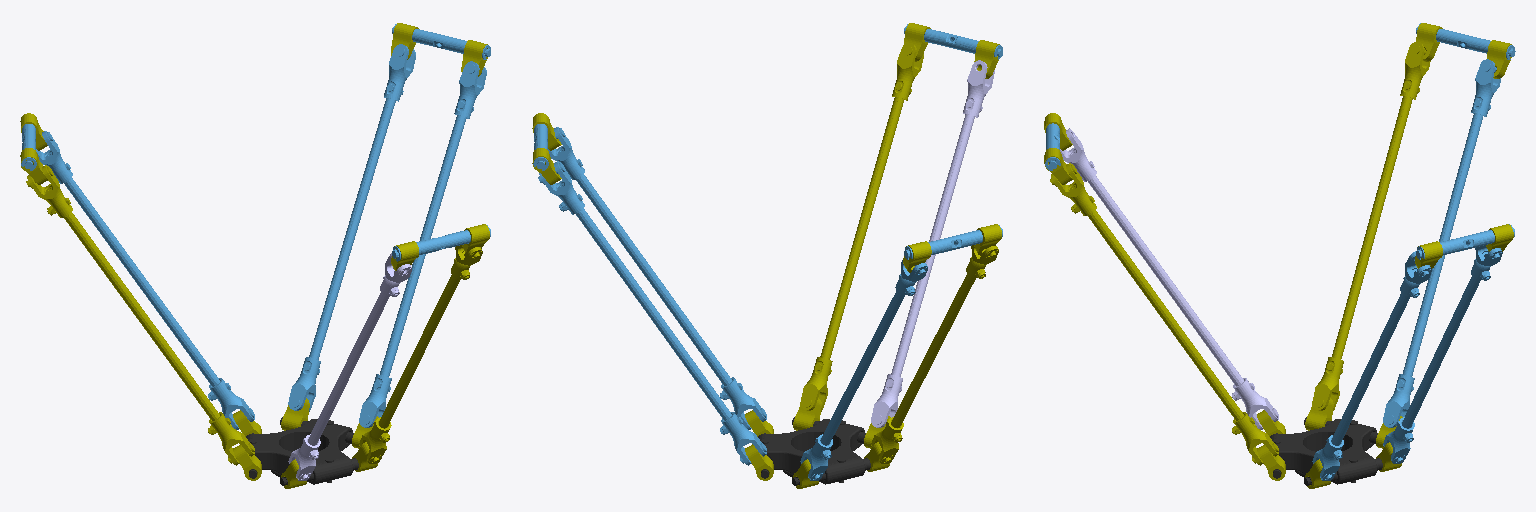
--- Render facts (derived) ---
Views: 3 orthographic renders of the robot side by side, from view 1: azimuth 30°, elevation 25°; view 2: azimuth 150°, elevation 25°; view 3: azimuth 270°, elevation 25°.
Model DeltaManipulator_low with 22 links and 21 joints (21 continuous), rooted at low_base_link, posed every joint at zero.
Visible links, largest first — view 1: con222, con221, con322, con321, low_base_link, con121, con122, con201, con101; view 2: con122, con222, con121, con221, low_base_link, con322, con321, con101, con301, con111, con112; view 3: con322, con122, con321, con121, low_base_link, con221, con222, con301, con201, con312, con311.
Link boxes in pixels (x1,y1,x2,y2): con222: (288,44,415,411); con221: (359,61,486,427); con322: (26,165,254,465); con321: (36,131,254,429); low_base_link: (246,417,358,485); con121: (288,253,411,480); con122: (359,245,482,463); con201: (392,24,490,59); con101: (392,225,490,261); con122: (800,43,923,411); con222: (538,161,766,465); con121: (871,60,994,427); con221: (548,127,766,429); low_base_link: (758,417,870,485); con322: (871,245,998,463); con321: (800,260,927,480); con101: (904,24,1002,59); con301: (904,225,1002,259); con111: (974,40,999,78); con112: (904,23,930,61); con322: (1312,42,1430,410); con122: (1050,163,1278,465); con321: (1383,59,1500,427); con121: (1060,128,1278,429); low_base_link: (1270,417,1382,485); con221: (1312,251,1431,480); con222: (1383,245,1502,463); con301: (1416,23,1515,59); con201: (1416,224,1514,259); con312: (1416,23,1442,61); con311: (1487,40,1511,78).
Bounding box of the posed robot: 0.3189 × 0.2769 × 0.2157 m (x, y, z).
22 mesh visuals loaded from 22 distinct referenced files (22 binary STL).

The robot description file, URDF, robot "DeltaManipulator_low":
<?xml version="1.0" encoding="utf-8"?>
<!-- This URDF was automatically created by SolidWorks to URDF Exporter! Originally created by Stephen Brawner ([email redacted]) 
     Commit Version: 1.6.0-4-g7f85cfe  Build Version: 1.6.7995.38578
     For more information, please see http://wiki.ros.org/sw_urdf_exporter -->
<robot
  name="DeltaManipulator_low">
  <link
    name="low_base_link">
    <inertial>
      <origin
        xyz="1.67429282660336E-08 -1.09064659664648E-08 0.0092823606262164"
        rpy="0 0 0" />
      <mass
        value="0.0277052530707091" />
      <inertia
        ixx="7.21837490929564E-06"
        ixy="8.45347838747331E-15"
        ixz="4.72158449893884E-13"
        iyy="7.21836771731911E-06"
        iyz="2.82195144743653E-12"
        izz="1.36261235680752E-05" />
    </inertial>
    <visual>
      <origin
        xyz="0 0 0"
        rpy="0 0 0" />
      <geometry>
        <mesh
          filename="package://DeltaManipulator_low/meshes/low_base_link.STL" />
      </geometry>
      <material
        name="">
        <color
          rgba="0.23921568627451 0.23921568627451 0.23921568627451 1" />
      </material>
    </visual>
    <collision>
      <origin
        xyz="0 0 0"
        rpy="0 0 0" />
      <geometry>
        <mesh
          filename="package://DeltaManipulator_low/meshes/low_base_link.STL" />
      </geometry>
    </collision>
  </link>
  <link
    name="con132">
    <inertial>
      <origin
        xyz="-0.00839999999998792 -0.00267079063628317 0.0040673112164073"
        rpy="0 0 0" />
      <mass
        value="0.00144663342057004" />
      <inertia
        ixx="5.69218111316834E-08"
        ixy="2.56602943940187E-21"
        ixz="-4.05504569551322E-21"
        iyy="5.2461767905543E-08"
        iyz="1.79111511505629E-08"
        izz="3.69464327587086E-08" />
    </inertial>
    <visual>
      <origin
        xyz="0 0 0"
        rpy="0 0 0" />
      <geometry>
        <mesh
          filename="package://DeltaManipulator_low/meshes/con132.STL" />
      </geometry>
      <material
        name="">
        <color
          rgba="0.701960784313725 0.701960784313725 0.0235294117647059 1" />
      </material>
    </visual>
    <collision>
      <origin
        xyz="0 0 0"
        rpy="0 0 0" />
      <geometry>
        <mesh
          filename="package://DeltaManipulator_low/meshes/con132.STL" />
      </geometry>
    </collision>
  </link>
  <joint
    name="low_base_link_joint_con132"
    type="continuous">
    <origin
      xyz="0.0324 -0.03 0.01"
      rpy="0 0 0" />
    <parent
      link="low_base_link" />
    <child
      link="con132" />
    <axis
      xyz="1 0 0" />
    <limit
      lower="0"
      upper="0"
      effort="0"
      velocity="0" />
  </joint>
  <link
    name="con122">
    <inertial>
      <origin
        xyz="-0.00856714284299187 -0.107997535307437 3.28426036366736E-10"
        rpy="0 0 0" />
      <mass
        value="0.00805476428554248" />
      <inertia
        ixx="1.33289086438739E-05"
        ixy="-9.9101297420375E-13"
        ixz="-1.3362218385193E-13"
        iyy="1.17270402667193E-07"
        iyz="1.13821510047298E-13"
        izz="1.33651118388553E-05" />
    </inertial>
    <visual>
      <origin
        xyz="0 0 0"
        rpy="0 0 0" />
      <geometry>
        <mesh
          filename="package://DeltaManipulator_low/meshes/con122.STL" />
      </geometry>
      <material
        name="">
        <color
          rgba="0.701960784313725 0.701960784313725 0.0235294117647059 1" />
      </material>
    </visual>
    <collision>
      <origin
        xyz="0 0 0"
        rpy="0 0 0" />
      <geometry>
        <mesh
          filename="package://DeltaManipulator_low/meshes/con122.STL" />
      </geometry>
    </collision>
  </link>
  <joint
    name="con112_joint_con122"
    type="continuous">
    <origin
      xyz="-0.00839999999997237 -0.0138589553784069 0.00525541205117042"
      rpy="-1.57079632679487 0.581034299531426 -1.57079632679488" />
    <parent
      link="con132" />
    <child
      link="con122" />
    <axis
      xyz="-1 0 0" />
  </joint>
  <link
    name="con112">
    <inertial>
      <origin
        xyz="-0.00870000000000615 -0.00713418628044951 7.68829444552921E-15"
        rpy="0 0 0" />
      <mass
        value="0.00144663342057005" />
      <inertia
        ixx="6.42230844685496E-08"
        ixy="-3.26223489978663E-20"
        ixz="3.04520537936908E-23"
        iyy="2.51851161957021E-08"
        iyz="-4.03079217187782E-21"
        izz="5.69218111316835E-08" />
    </inertial>
    <visual>
      <origin
        xyz="0 0 0"
        rpy="0 0 0" />
      <geometry>
        <mesh
          filename="package://DeltaManipulator_low/meshes/con112.STL" />
      </geometry>
      <material
        name="">
        <color
          rgba="0.701960784313725 0.701960784313725 0.0235294117647059 1" />
      </material>
    </visual>
    <collision>
      <origin
        xyz="0 0 0"
        rpy="0 0 0" />
      <geometry>
        <mesh
          filename="package://DeltaManipulator_low/meshes/con112.STL" />
      </geometry>
    </collision>
  </link>
  <joint
    name="con122_joint_con112"
    type="continuous">
    <origin
      xyz="0 -0.216000000000204 0"
      rpy="0 0 0" />
    <parent
      link="con122" />
    <child
      link="con112" />
    <axis
      xyz="-1 0 0" />
  </joint>
  <link
    name="con131">
    <inertial>
      <origin
        xyz="0.00840000000001212 -0.00267079063619827 0.00406731121635506"
        rpy="0 0 0" />
      <mass
        value="0.00144663342057005" />
      <inertia
        ixx="5.69218111316835E-08"
        ixy="2.55913534575968E-21"
        ixz="-4.05165768972689E-21"
        iyy="5.24617679055308E-08"
        iyz="1.79111511505682E-08"
        izz="3.69464327587209E-08" />
    </inertial>
    <visual>
      <origin
        xyz="0 0 0"
        rpy="0 0 0" />
      <geometry>
        <mesh
          filename="package://DeltaManipulator_low/meshes/con131.STL" />
      </geometry>
      <material
        name="">
        <color
          rgba="0.701960784313725 0.701960784313725 0.0235294117647059 1" />
      </material>
    </visual>
    <collision>
      <origin
        xyz="0 0 0"
        rpy="0 0 0" />
      <geometry>
        <mesh
          filename="package://DeltaManipulator_low/meshes/con131.STL" />
      </geometry>
    </collision>
  </link>
  <joint
    name="low_base_link_joint_con131"
    type="continuous">
    <origin
      xyz="-0.0324 -0.03 0.01"
      rpy="0 0 0" />
    <parent
      link="low_base_link" />
    <child
      link="con131" />
    <axis
      xyz="1 0 0" />
    <limit
      lower="0"
      upper="0"
      effort="0"
      velocity="0" />
  </joint>
  <link
    name="con121">
    <inertial>
      <origin
        xyz="-0.0085631212348628 -0.105002630079755 3.37533001548707E-10"
        rpy="0 0 0" />
      <mass
        value="0.00783743250836782" />
      <inertia
        ixx="1.33284062104622E-05"
        ixy="-9.91012977906211E-13"
        ixz="-1.33622183853349E-13"
        iyy="1.11814968834884E-07"
        iyz="1.13821411065065E-13"
        izz="1.33596564050229E-05" />
    </inertial>
    <visual>
      <origin
        xyz="0 0 0"
        rpy="0 0 0" />
      <geometry>
        <mesh
          filename="package://DeltaManipulator_low/meshes/con121.STL" />
      </geometry>
      <material
        name="">
        <color
          rgba="0.823529411764706 0.823529411764706 1 1" />
      </material>
    </visual>
    <collision>
      <origin
        xyz="0 0 0"
        rpy="0 0 0" />
      <geometry>
        <mesh
          filename="package://DeltaManipulator_low/meshes/con121.STL" />
      </geometry>
    </collision>
  </link>
  <joint
    name="con111_joint_con121"
    type="continuous">
    <origin
      xyz="0.00840000000002858 -0.0138589553783162 0.00525541205111044"
      rpy="-1.57079632679487 0.581034299531768 -1.57079632679488" />
    <parent
      link="con131" />
    <child
      link="con121" />
    <axis
      xyz="-1 0 0" />
  </joint>
  <link
    name="con111">
    <inertial>
      <origin
        xyz="-0.00870000000000287 -0.00713418628045612 8.32667268468867E-15"
        rpy="0 0 0" />
      <mass
        value="0.00144663342057004" />
      <inertia
        ixx="6.42230844685494E-08"
        ixy="-3.2563619174375E-20"
        ixz="3.86479765632382E-23"
        iyy="2.51851161957021E-08"
        iyz="-4.04036098366138E-21"
        izz="5.69218111316834E-08" />
    </inertial>
    <visual>
      <origin
        xyz="0 0 0"
        rpy="0 0 0" />
      <geometry>
        <mesh
          filename="package://DeltaManipulator_low/meshes/con111.STL" />
      </geometry>
      <material
        name="">
        <color
          rgba="0.701960784313725 0.701960784313725 0.0235294117647059 1" />
      </material>
    </visual>
    <collision>
      <origin
        xyz="0 0 0"
        rpy="0 0 0" />
      <geometry>
        <mesh
          filename="package://DeltaManipulator_low/meshes/con111.STL" />
      </geometry>
    </collision>
  </link>
  <joint
    name="con121_joint_con111"
    type="continuous">
    <origin
      xyz="0 -0.216000000000204 0"
      rpy="0 0 0" />
    <parent
      link="con121" />
    <child
      link="con111" />
    <axis
      xyz="-1 0 0" />
  </joint>
  <link
    name="con101">
    <inertial>
      <origin
        xyz="0.0323996683551134 9.10737225684466E-06 1.51706450552194E-05"
        rpy="0 0 0" />
      <mass
        value="0.00233438832438307" />
      <inertia
        ixx="1.61755929010393E-08"
        ixy="-7.50049446821665E-21"
        ixz="-7.13217108003041E-23"
        iyy="5.59998517885307E-07"
        iyz="-8.76656936053483E-11"
        izz="5.59707976780153E-07" />
    </inertial>
    <visual>
      <origin
        xyz="0 0 0"
        rpy="0 0 0" />
      <geometry>
        <mesh
          filename="package://DeltaManipulator_low/meshes/con101.STL" />
      </geometry>
      <material
        name="">
        <color
          rgba="0.4 0.694117647058824 0.890196078431372 1" />
      </material>
    </visual>
    <collision>
      <origin
        xyz="0 0 0"
        rpy="0 0 0" />
      <geometry>
        <mesh
          filename="package://DeltaManipulator_low/meshes/con101.STL" />
      </geometry>
    </collision>
  </link>
  <joint
    name="con111_joint_con101"
    type="continuous">
    <origin
      xyz="-0.00870000000007759 -0.0120000000003096 -0.00839999999998997"
      rpy="2.15183062632666 -1.5707963267949 0" />
    <parent
      link="con111" />
    <child
      link="con101" />
    <axis
      xyz="-1 0 0" />
  </joint>
  <link
    name="con332">
    <inertial>
      <origin
        xyz="0.00840000000046259 0.00267079063726877 0.00406731121297532"
        rpy="0 0 0" />
      <mass
        value="0.00144663342067129" />
      <inertia
        ixx="5.69218111181885E-08"
        ixy="-8.49993187032841E-19"
        ixz="-2.07046055382069E-18"
        iyy="5.24617679022528E-08"
        iyz="-1.79111511491861E-08"
        izz="3.69464327534322E-08" />
    </inertial>
    <visual>
      <origin
        xyz="0 0 0"
        rpy="0 0 0" />
      <geometry>
        <mesh
          filename="package://DeltaManipulator_low/meshes/con332.STL" />
      </geometry>
      <material
        name="">
        <color
          rgba="0.701960784313725 0.701960784313725 0.0235294117647059 1" />
      </material>
    </visual>
    <collision>
      <origin
        xyz="0 0 0"
        rpy="0 0 0" />
      <geometry>
        <mesh
          filename="package://DeltaManipulator_low/meshes/con332.STL" />
      </geometry>
    </collision>
  </link>
  <joint
    name="low_base_link_joint_con332"
    type="continuous">
    <origin
      xyz="-0.0421807621135062 -0.0130592230826123 0.01"
      rpy="0 0 1.04719755119639" />
    <parent
      link="low_base_link" />
    <child
      link="con332" />
    <axis
      xyz="-1 0 0" />
    <limit
      lower="0"
      upper="0"
      effort="0"
      velocity="0" />
  </joint>
  <link
    name="con322">
    <inertial>
      <origin
        xyz="-0.00856714294357019 0.0326254931147071 -0.102951660051571"
        rpy="0 0 0" />
      <mass
        value="0.00805476456729217" />
      <inertia
        ixx="1.33289086556344E-05"
        ixy="4.27371227277366E-13"
        ixz="-9.05570669833969E-13"
        iyy="1.21560970662347E-05"
        iyz="3.81511722623267E-06"
        izz="1.32628519314814E-06" />
    </inertial>
    <visual>
      <origin
        xyz="0 0 0"
        rpy="0 0 0" />
      <geometry>
        <mesh
          filename="package://DeltaManipulator_low/meshes/con322.STL" />
      </geometry>
      <material
        name="">
        <color
          rgba="0.701960784313725 0.701960784313725 0.0235294117647059 1" />
      </material>
    </visual>
    <collision>
      <origin
        xyz="0 0 0"
        rpy="0 0 0" />
      <geometry>
        <mesh
          filename="package://DeltaManipulator_low/meshes/con322.STL" />
      </geometry>
    </collision>
  </link>
  <joint
    name="con312_joint_con322"
    type="continuous">
    <origin
      xyz="0.00840000000000435 0.0138589553783929 0.00525541205120317"
      rpy="2.83470328626977 0.581034299531492 1.57079632679489" />
    <parent
      link="con332" />
    <child
      link="con322" />
    <axis
      xyz="-1 0 0" />
  </joint>
  <link
    name="con312">
    <inertial>
      <origin
        xyz="-0.00870000000259447 0.0021552006166522 -0.00680086202025776"
        rpy="0 0 0" />
      <mass
        value="0.00144663342067126" />
      <inertia
        ixx="6.42230844633969E-08"
        ixy="8.57133442919032E-19"
        ixz="-1.29537228388355E-18"
        iyy="5.40254799860223E-08"
        iyz="9.13954285064507E-09"
        izz="2.80814473244528E-08" />
    </inertial>
    <visual>
      <origin
        xyz="0 0 0"
        rpy="0 0 0" />
      <geometry>
        <mesh
          filename="package://DeltaManipulator_low/meshes/con312.STL" />
      </geometry>
      <material
        name="">
        <color
          rgba="0.701960784313725 0.701960784313725 0.0235294117647059 1" />
      </material>
    </visual>
    <collision>
      <origin
        xyz="0 0 0"
        rpy="0 0 0" />
      <geometry>
        <mesh
          filename="package://DeltaManipulator_low/meshes/con312.STL" />
      </geometry>
    </collision>
  </link>
  <joint
    name="con322_joint_con312"
    type="continuous">
    <origin
      xyz="0 0.0652524779703188 -0.205908023444501"
      rpy="0 0 0" />
    <parent
      link="con322" />
    <child
      link="con312" />
    <axis
      xyz="-1 0 0" />
  </joint>
  <link
    name="con331">
    <inertial>
      <origin
        xyz="0.00839999999969115 0.00267079063720987 -0.00406731121301357"
        rpy="0 0 0" />
      <mass
        value="0.00144663342067128" />
      <inertia
        ixx="5.69218111181885E-08"
        ixy="8.49976159829528E-19"
        ixz="-2.07046275322281E-18"
        iyy="5.24617679022527E-08"
        iyz="1.79111511491861E-08"
        izz="3.69464327534321E-08" />
    </inertial>
    <visual>
      <origin
        xyz="0 0 0"
        rpy="0 0 0" />
      <geometry>
        <mesh
          filename="package://DeltaManipulator_low/meshes/con331.STL" />
      </geometry>
      <material
        name="">
        <color
          rgba="0.701960784313725 0.701960784313725 0.0235294117647059 1" />
      </material>
    </visual>
    <collision>
      <origin
        xyz="0 0 0"
        rpy="0 0 0" />
      <geometry>
        <mesh
          filename="package://DeltaManipulator_low/meshes/con331.STL" />
      </geometry>
    </collision>
  </link>
  <joint
    name="low_base_link_joint_con331"
    type="continuous">
    <origin
      xyz="-0.00978076211349385 0.0430592230826123 0.01"
      rpy="-3.14159265358979 0 -2.09439510239319" />
    <parent
      link="low_base_link" />
    <child
      link="con331" />
    <axis
      xyz="1 0 0" />
    <limit
      lower="0"
      upper="0"
      effort="0"
      velocity="0" />
  </joint>
  <link
    name="con321">
    <inertial>
      <origin
        xyz="-0.00856714294364674 0.0326254931146427 -0.102951660051591"
        rpy="0 0 0" />
      <mass
        value="0.00805476456729217" />
      <inertia
        ixx="1.33289086556346E-05"
        ixy="4.27371226470038E-13"
        ixz="-9.05570664973456E-13"
        iyy="1.21560970662327E-05"
        iyz="3.81511722623569E-06"
        izz="1.32628519315026E-06" />
    </inertial>
    <visual>
      <origin
        xyz="0 0 0"
        rpy="0 0 0" />
      <geometry>
        <mesh
          filename="package://DeltaManipulator_low/meshes/con321.STL" />
      </geometry>
      <material
        name="">
        <color
          rgba="0.4 0.694117647058824 0.890196078431372 1" />
      </material>
    </visual>
    <collision>
      <origin
        xyz="0 0 0"
        rpy="0 0 0" />
      <geometry>
        <mesh
          filename="package://DeltaManipulator_low/meshes/con321.STL" />
      </geometry>
    </collision>
  </link>
  <joint
    name="con311_joint_con321"
    type="continuous">
    <origin
      xyz="0.00840000000005628 0.0138589553783993 -0.00525541205120128"
      rpy="-0.306889367319877 -0.581034299531492 1.5707963267949" />
    <parent
      link="con331" />
    <child
      link="con321" />
    <axis
      xyz="-1 0 0" />
  </joint>
  <link
    name="con311">
    <inertial>
      <origin
        xyz="-0.00870000000267096 0.00215520061655494 -0.00680086202028626"
        rpy="0 0 0" />
      <mass
        value="0.00144663342067126" />
      <inertia
        ixx="6.42230844633967E-08"
        ixy="8.57143989471842E-19"
        ixz="-1.29534002383966E-18"
        iyy="5.40254799860247E-08"
        iyz="9.13954285064141E-09"
        izz="2.808144732445E-08" />
    </inertial>
    <visual>
      <origin
        xyz="0 0 0"
        rpy="0 0 0" />
      <geometry>
        <mesh
          filename="package://DeltaManipulator_low/meshes/con311.STL" />
      </geometry>
      <material
        name="">
        <color
          rgba="0.701960784313725 0.701960784313725 0.0235294117647059 1" />
      </material>
    </visual>
    <collision>
      <origin
        xyz="0 0 0"
        rpy="0 0 0" />
      <geometry>
        <mesh
          filename="package://DeltaManipulator_low/meshes/con311.STL" />
      </geometry>
    </collision>
  </link>
  <joint
    name="con321_joint_311"
    type="continuous">
    <origin
      xyz="0 0.0652524779703756 -0.205908023444483"
      rpy="0 0 0" />
    <parent
      link="con321" />
    <child
      link="con311" />
    <axis
      xyz="-1 0 0" />
  </joint>
  <link
    name="con301">
    <inertial>
      <origin
        xyz="0.0323996683551134 -9.10737225690017E-06 -1.51706450561354E-05"
        rpy="0 0 0" />
      <mass
        value="0.00233438832438308" />
      <inertia
        ixx="1.61755929010393E-08"
        ixy="-4.07391035840149E-22"
        ixz="4.17053126979029E-23"
        iyy="5.59998517885309E-07"
        iyz="-8.76656936052873E-11"
        izz="5.59707976780154E-07" />
    </inertial>
    <visual>
      <origin
        xyz="0 0 0"
        rpy="0 0 0" />
      <geometry>
        <mesh
          filename="package://DeltaManipulator_low/meshes/con301.STL" />
      </geometry>
      <material
        name="">
        <color
          rgba="0.4 0.694117647058824 0.890196078431372 1" />
      </material>
    </visual>
    <collision>
      <origin
        xyz="0 0 0"
        rpy="0 0 0" />
      <geometry>
        <mesh
          filename="package://DeltaManipulator_low/meshes/con301.STL" />
      </geometry>
    </collision>
  </link>
  <joint
    name="con311_joint_con301"
    type="continuous">
    <origin
      xyz="-0.0087000000000404 0.0116326719101132 -0.00890173827044613"
      rpy="-0.581034299531494 0.306889367319877 -1.5707963267949" />
    <parent
      link="con311" />
    <child
      link="con301" />
    <axis
      xyz="-1 0 0" />
  </joint>
  <link
    name="con232">
    <inertial>
      <origin
        xyz="-0.00839999999974417 0.00267079063722375 -0.00406731121300319"
        rpy="0 0 0" />
      <mass
        value="0.00144663342067125" />
      <inertia
        ixx="5.69218111181876E-08"
        ixy="-8.55178680459424E-19"
        ixz="2.07810549694647E-18"
        iyy="5.24617679022519E-08"
        iyz="1.7911151149186E-08"
        izz="3.69464327534315E-08" />
    </inertial>
    <visual>
      <origin
        xyz="0 0 0"
        rpy="0 0 0" />
      <geometry>
        <mesh
          filename="package://DeltaManipulator_low/meshes/con232.STL" />
      </geometry>
      <material
        name="">
        <color
          rgba="0.701960784313725 0.701960784313725 0.0235294117647059 1" />
      </material>
    </visual>
    <collision>
      <origin
        xyz="0 0 0"
        rpy="0 0 0" />
      <geometry>
        <mesh
          filename="package://DeltaManipulator_low/meshes/con232.STL" />
      </geometry>
    </collision>
  </link>
  <joint
    name="low_base_link_joint_con232"
    type="continuous">
    <origin
      xyz="0.00978076211349385 0.0430592230826123 0.01"
      rpy="3.14159265358979 0 2.09439510239343" />
    <parent
      link="low_base_link" />
    <child
      link="con232" />
    <axis
      xyz="1 0 0" />
    <limit
      lower="0"
      upper="0"
      effort="0"
      velocity="0" />
  </joint>
  <link
    name="con222">
    <inertial>
      <origin
        xyz="-0.00856714268518971 0.0326254957216903 0.102951664326077"
        rpy="0 0 0" />
      <mass
        value="0.0080547646073452" />
      <inertia
        ixx="1.33289086556958E-05"
        ixy="1.72632659322743E-13"
        ixz="9.86336946460541E-13"
        iyy="1.21560969352813E-05"
        iyz="-3.81511741222842E-06"
        izz="1.32628532431947E-06" />
    </inertial>
    <visual>
      <origin
        xyz="0 0 0"
        rpy="0 0 0" />
      <geometry>
        <mesh
          filename="package://DeltaManipulator_low/meshes/con222.STL" />
      </geometry>
      <material
        name="">
        <color
          rgba="0.4 0.694117647058824 0.890196078431372 1" />
      </material>
    </visual>
    <collision>
      <origin
        xyz="0 0 0"
        rpy="0 0 0" />
      <geometry>
        <mesh
          filename="package://DeltaManipulator_low/meshes/con222.STL" />
      </geometry>
    </collision>
  </link>
  <joint
    name="con212_joint_con222"
    type="continuous">
    <origin
      xyz="-0.00840000000001401 0.013858955378404 -0.00525541205118865"
      rpy="-2.83470328626975 -0.581034299531493 1.57079632679489" />
    <parent
      link="con232" />
    <child
      link="con222" />
    <axis
      xyz="-1 0 0" />
  </joint>
  <link
    name="con212">
    <inertial>
      <origin
        xyz="-0.0087000000026722 0.00215520061653986 0.0068008620202884"
        rpy="0 0 0" />
      <mass
        value="0.00144663342067128" />
      <inertia
        ixx="6.42230844633973E-08"
        ixy="8.57310873160425E-19"
        ixz="1.29526805912637E-18"
        iyy="5.40254799860277E-08"
        iyz="-9.13954285063808E-09"
        izz="2.8081447324448E-08" />
    </inertial>
    <visual>
      <origin
        xyz="0 0 0"
        rpy="0 0 0" />
      <geometry>
        <mesh
          filename="package://DeltaManipulator_low/meshes/con212.STL" />
      </geometry>
      <material
        name="">
        <color
          rgba="0.701960784313725 0.701960784313725 0.0235294117647059 1" />
      </material>
    </visual>
    <collision>
      <origin
        xyz="0 0 0"
        rpy="0 0 0" />
      <geometry>
        <mesh
          filename="package://DeltaManipulator_low/meshes/con212.STL" />
      </geometry>
    </collision>
  </link>
  <joint
    name="con222_joint_con212"
    type="continuous">
    <origin
      xyz="0 0.0652524779703352 0.205908023444506"
      rpy="0 0 0" />
    <parent
      link="con222" />
    <child
      link="con212" />
    <axis
      xyz="-1 0 0" />
  </joint>
  <link
    name="con231">
    <inertial>
      <origin
        xyz="-0.00840000000029001 0.00267079063721867 0.00406731121300269"
        rpy="0 0 0" />
      <mass
        value="0.00144663342067125" />
      <inertia
        ixx="5.69218111181877E-08"
        ixy="8.54295593032516E-19"
        ixz="2.07454581522584E-18"
        iyy="5.24617679022521E-08"
        iyz="-1.79111511491859E-08"
        izz="3.69464327534314E-08" />
    </inertial>
    <visual>
      <origin
        xyz="0 0 0"
        rpy="0 0 0" />
      <geometry>
        <mesh
          filename="package://DeltaManipulator_low/meshes/con231.STL" />
      </geometry>
      <material
        name="">
        <color
          rgba="0.701960784313725 0.701960784313725 0.0235294117647059 1" />
      </material>
    </visual>
    <collision>
      <origin
        xyz="0 0 0"
        rpy="0 0 0" />
      <geometry>
        <mesh
          filename="package://DeltaManipulator_low/meshes/con231.STL" />
      </geometry>
    </collision>
  </link>
  <joint
    name="low_base_link_joint_con231"
    type="continuous">
    <origin
      xyz="0.0421807621135062 -0.0130592230826123 0.01"
      rpy="0 0 -1.04719755119638" />
    <parent
      link="low_base_link" />
    <child
      link="con231" />
    <axis
      xyz="-1 0 0" />
    <limit
      lower="0"
      upper="0"
      effort="0"
      velocity="0" />
  </joint>
  <link
    name="con221">
    <inertial>
      <origin
        xyz="-0.00856714268519068 0.0326254957216935 0.102951664326072"
        rpy="0 0 0" />
      <mass
        value="0.00805476460734519" />
      <inertia
        ixx="1.33289086556959E-05"
        ixy="1.72632660441091E-13"
        ixz="9.86336945014629E-13"
        iyy="1.2156096935281E-05"
        iyz="-3.81511741222883E-06"
        izz="1.32628532431976E-06" />
    </inertial>
    <visual>
      <origin
        xyz="0 0 0"
        rpy="0 0 0" />
      <geometry>
        <mesh
          filename="package://DeltaManipulator_low/meshes/con221.STL" />
      </geometry>
      <material
        name="">
        <color
          rgba="0.4 0.694117647058824 0.890196078431372 1" />
      </material>
    </visual>
    <collision>
      <origin
        xyz="0 0 0"
        rpy="0 0 0" />
      <geometry>
        <mesh
          filename="package://DeltaManipulator_low/meshes/con221.STL" />
      </geometry>
    </collision>
  </link>
  <joint
    name="con211_joint_con221"
    type="continuous">
    <origin
      xyz="-0.00839999999997281 0.0138589553783976 0.00525541205118435"
      rpy="0.306889367319898 0.581034299531491 1.5707963267947" />
    <parent
      link="con231" />
    <child
      link="con221" />
    <axis
      xyz="-1 0 0" />
  </joint>
  <link
    name="con211">
    <inertial>
      <origin
        xyz="-0.00870000000266553 0.00215520061655639 0.00680086202029717"
        rpy="0 0 0" />
      <mass
        value="0.00144663342067128" />
      <inertia
        ixx="6.42230844633973E-08"
        ixy="8.57311286750731E-19"
        ixz="1.29525316987535E-18"
        iyy="5.40254799860304E-08"
        iyz="-9.13954285063433E-09"
        izz="2.80814473244455E-08" />
    </inertial>
    <visual>
      <origin
        xyz="0 0 0"
        rpy="0 0 0" />
      <geometry>
        <mesh
          filename="package://DeltaManipulator_low/meshes/con211.STL" />
      </geometry>
      <material
        name="">
        <color
          rgba="0.701960784313725 0.701960784313725 0.0235294117647059 1" />
      </material>
    </visual>
    <collision>
      <origin
        xyz="0 0 0"
        rpy="0 0 0" />
      <geometry>
        <mesh
          filename="package://DeltaManipulator_low/meshes/con211.STL" />
      </geometry>
    </collision>
  </link>
  <joint
    name="con221_joint_con211"
    type="continuous">
    <origin
      xyz="0 0.0652524779703401 0.205908023444494"
      rpy="0 0 0" />
    <parent
      link="con221" />
    <child
      link="con211" />
    <axis
      xyz="-1 0 0" />
  </joint>
  <link
    name="con201">
    <inertial>
      <origin
        xyz="0.0323996683551134 -9.10737227372005E-06 -1.5170645076501E-05"
        rpy="0 0 0" />
      <mass
        value="0.00233438832438308" />
      <inertia
        ixx="1.61755929010392E-08"
        ixy="4.73579532941084E-22"
        ixz="-4.56894687325784E-22"
        iyy="5.59998517885307E-07"
        iyz="-8.76656936052657E-11"
        izz="5.59707976780153E-07" />
    </inertial>
    <visual>
      <origin
        xyz="0 0 0"
        rpy="0 0 0" />
      <geometry>
        <mesh
          filename="package://DeltaManipulator_low/meshes/con201.STL" />
      </geometry>
      <material
        name="">
        <color
          rgba="0.4 0.694117647058824 0.890196078431372 1" />
      </material>
    </visual>
    <collision>
      <origin
        xyz="0 0 0"
        rpy="0 0 0" />
      <geometry>
        <mesh
          filename="package://DeltaManipulator_low/meshes/con201.STL" />
      </geometry>
    </collision>
  </link>
  <joint
    name="con211_joint_con201"
    type="continuous">
    <origin
      xyz="-0.00869999999988946 -0.00438239658005455 0.0139769310012936"
      rpy="2.5605583540583 0.306889367319895 1.5707963267949" />
    <parent
      link="con211" />
    <child
      link="con201" />
    <axis
      xyz="-1 0 0" />
  </joint>
</robot>
